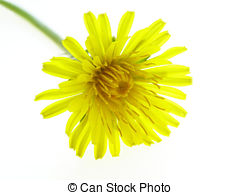dandelion: (52, 34, 182, 148)
